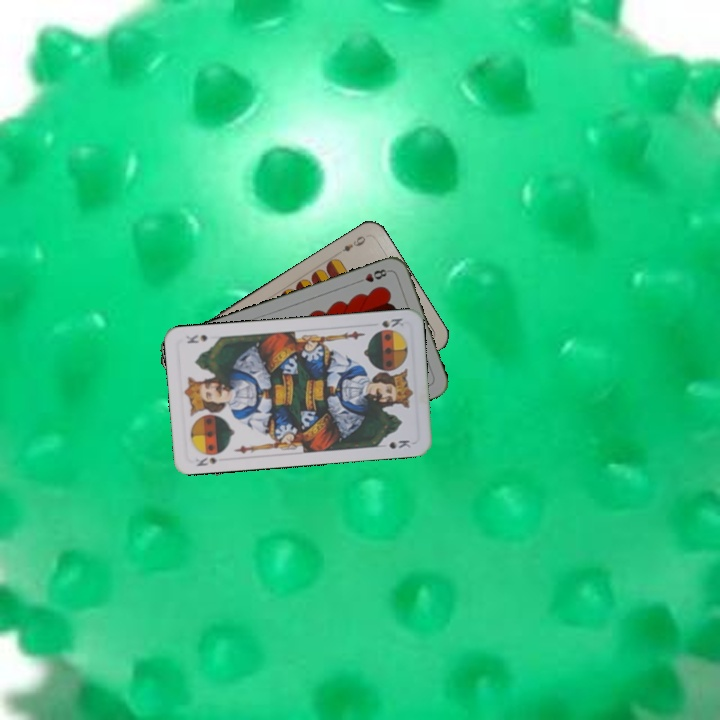E9: (338, 232, 368, 254)
H8: (353, 265, 392, 286)
SK: (372, 314, 406, 334), (191, 453, 220, 469)
